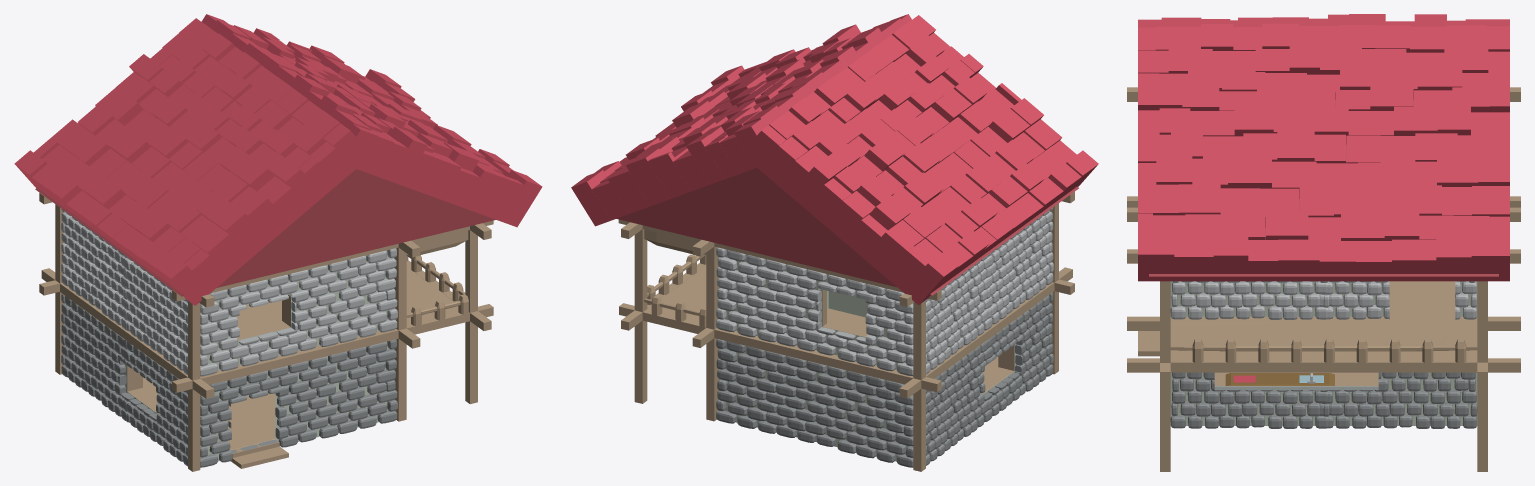
File: house_3.glb
The picture shows the model from 3 angles, left to right: view 1: azimuth 30°, elevation 25°; view 2: azimuth 150°, elevation 25°; view 3: azimuth 270°, elevation 25°; orthographic projection. The views are drawn at different scales.
Visible parts, largest first — view 1: Mesh_Mesh_head_geo.001_lambert2SG.001; view 2: Mesh_Mesh_head_geo.001_lambert2SG.001; view 3: Mesh_Mesh_head_geo.001_lambert2SG.001.
Boxes of the visible parts, <box> form: Mesh_Mesh_head_geo.001_lambert2SG.001: <box>14,14,542,471</box>; Mesh_Mesh_head_geo.001_lambert2SG.001: <box>571,14,1098,471</box>; Mesh_Mesh_head_geo.001_lambert2SG.001: <box>1127,14,1520,471</box>.
Size of the model in its own units: 47 by 38.01 by 36.
